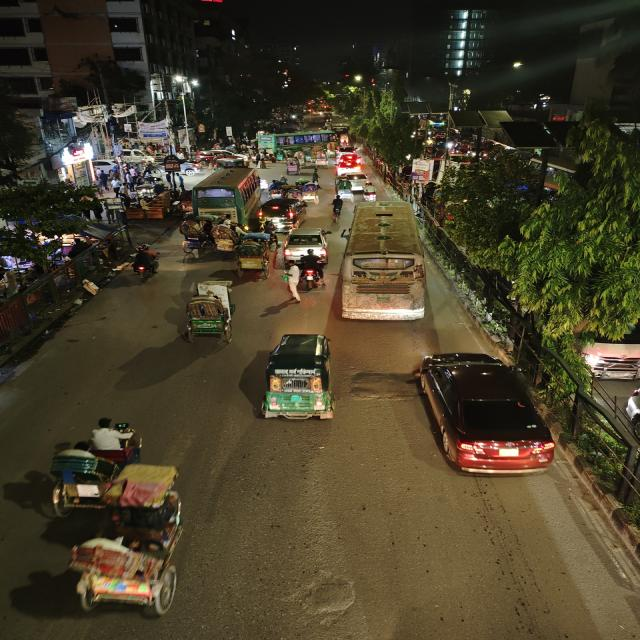bicycle: (329, 196, 344, 224)
bus: (339, 198, 431, 328), (190, 168, 262, 220), (262, 134, 338, 147)
car: (408, 348, 562, 480), (282, 225, 330, 261), (256, 197, 308, 227), (334, 160, 366, 174)
cng: (248, 330, 343, 428)
motorcycle: (291, 251, 329, 292), (130, 243, 163, 283), (360, 182, 379, 202)
rickshaw: (55, 441, 204, 627), (26, 414, 148, 521), (180, 272, 241, 346), (233, 237, 273, 279), (176, 219, 208, 261), (210, 220, 237, 256), (296, 181, 322, 205), (333, 176, 355, 198), (310, 150, 330, 168), (283, 159, 302, 174)
